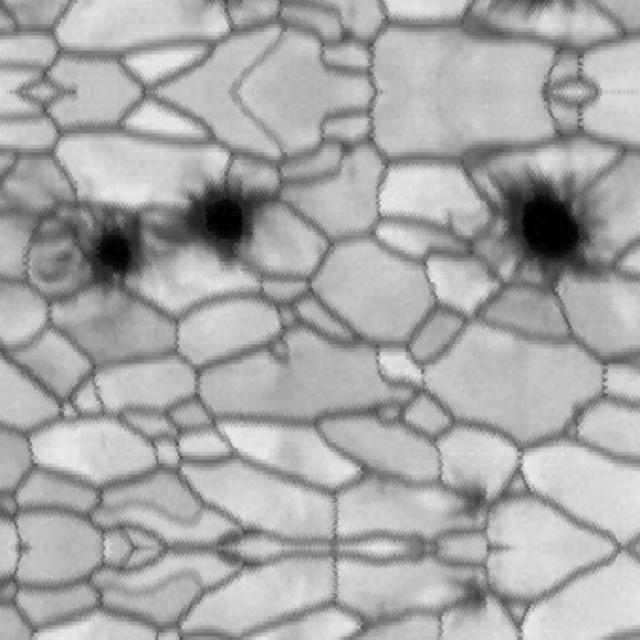good_void: (437, 156, 618, 304), (149, 160, 288, 281), (31, 198, 152, 299), (426, 471, 506, 528), (426, 570, 506, 627), (331, 134, 370, 169), (331, 15, 370, 50)
